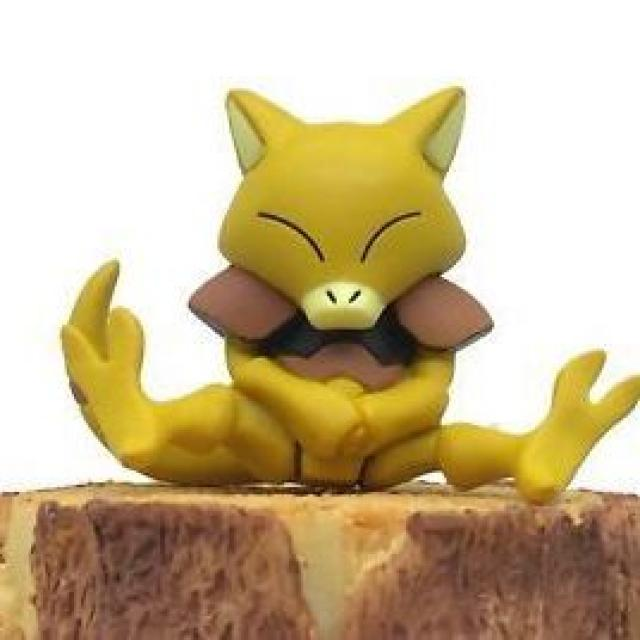Abra: (162, 80, 528, 493)
